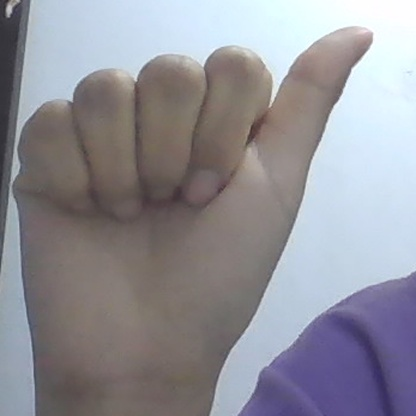A: (14, 27, 372, 377)
